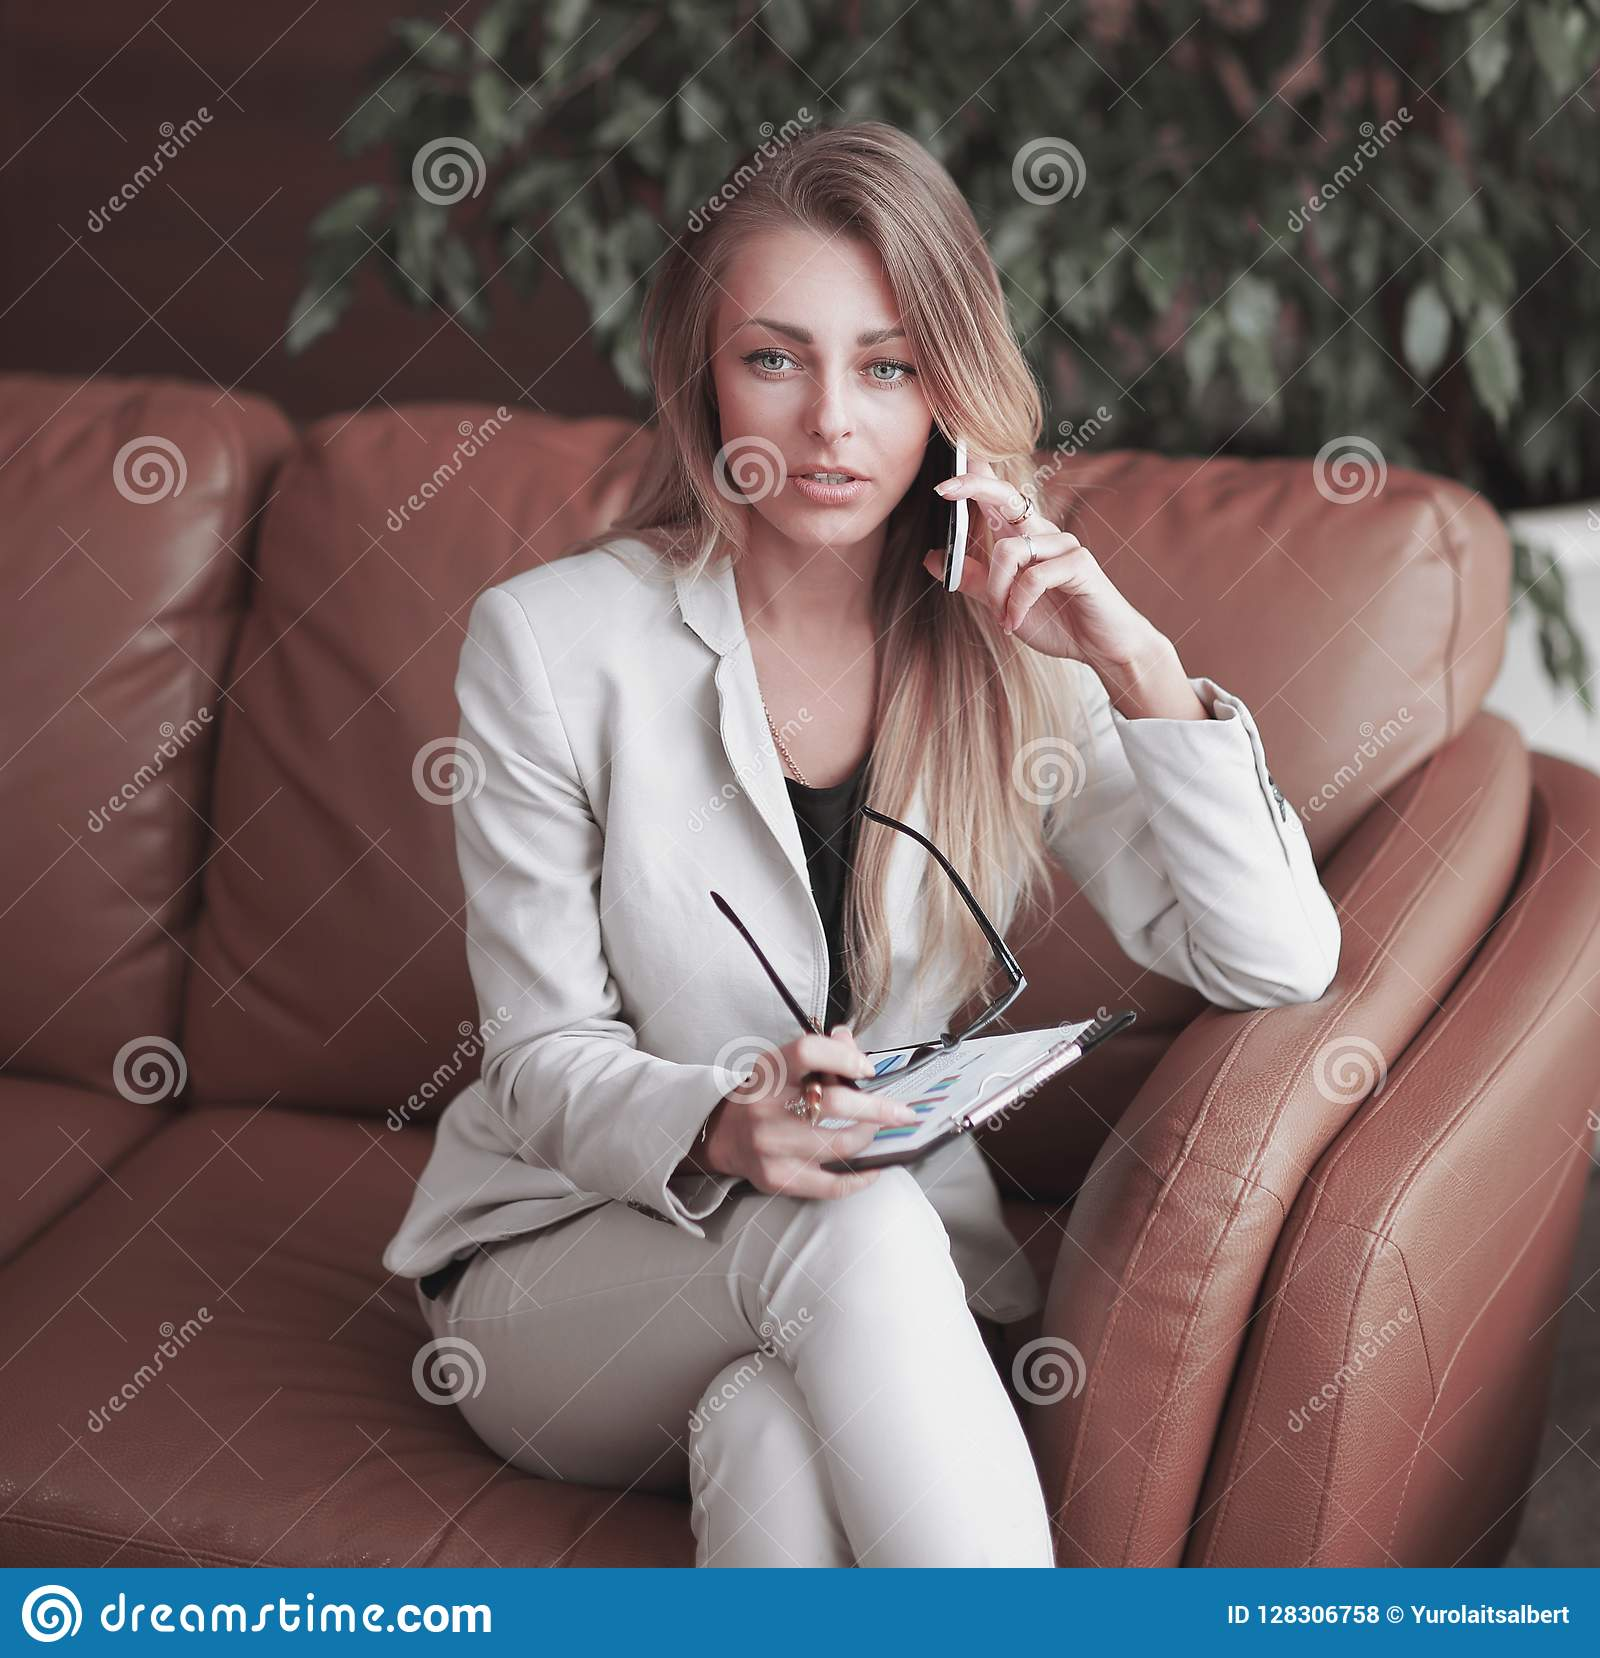phone: (927, 409, 987, 603)
talk: (716, 311, 1150, 690)
